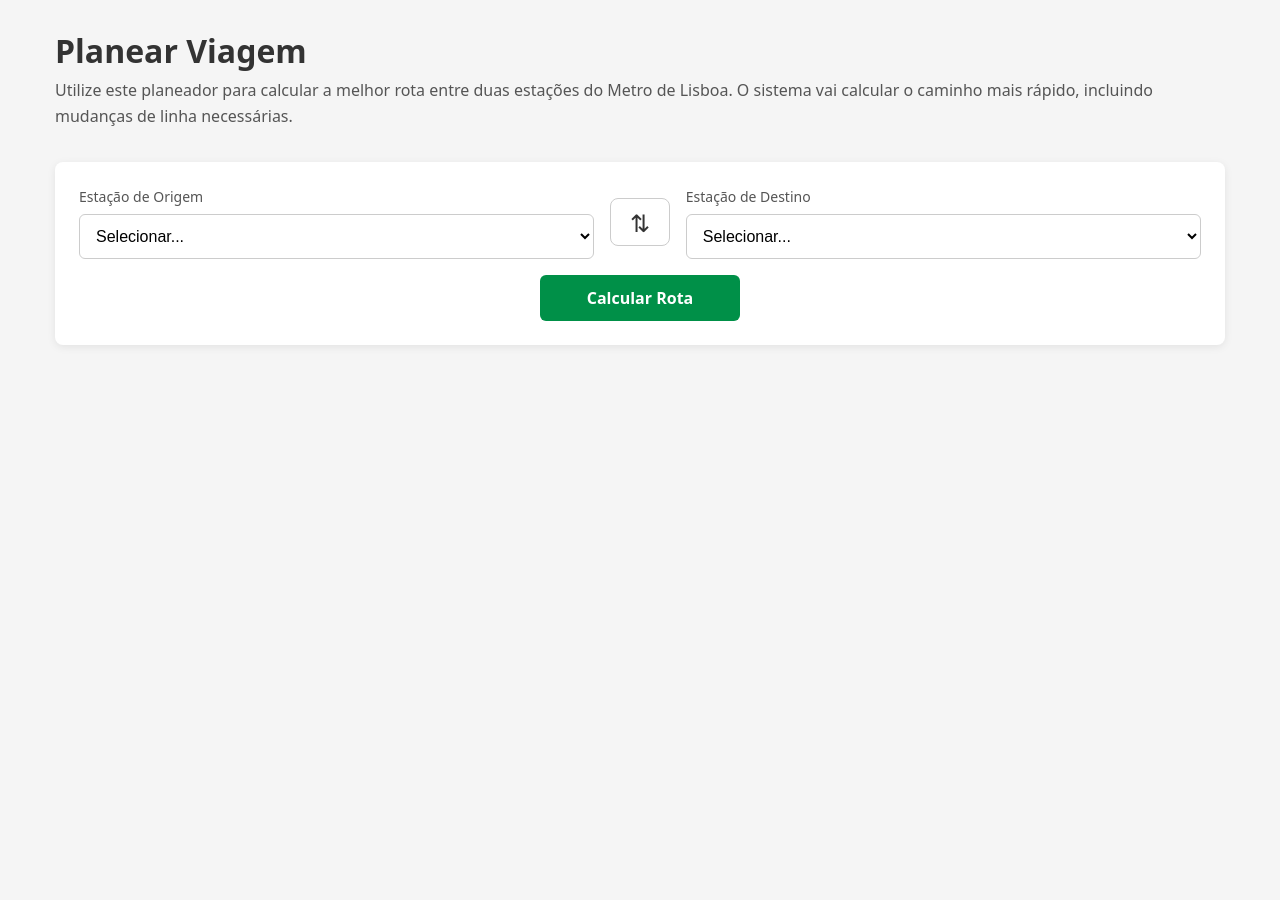
Test: PlanearViagem › shows note about conceptual planner
The image size is (1280, 900).
Select "Reboleira" in the dropdown labelled "Estação de Origem" at (337, 236), box [79,214,594,259]
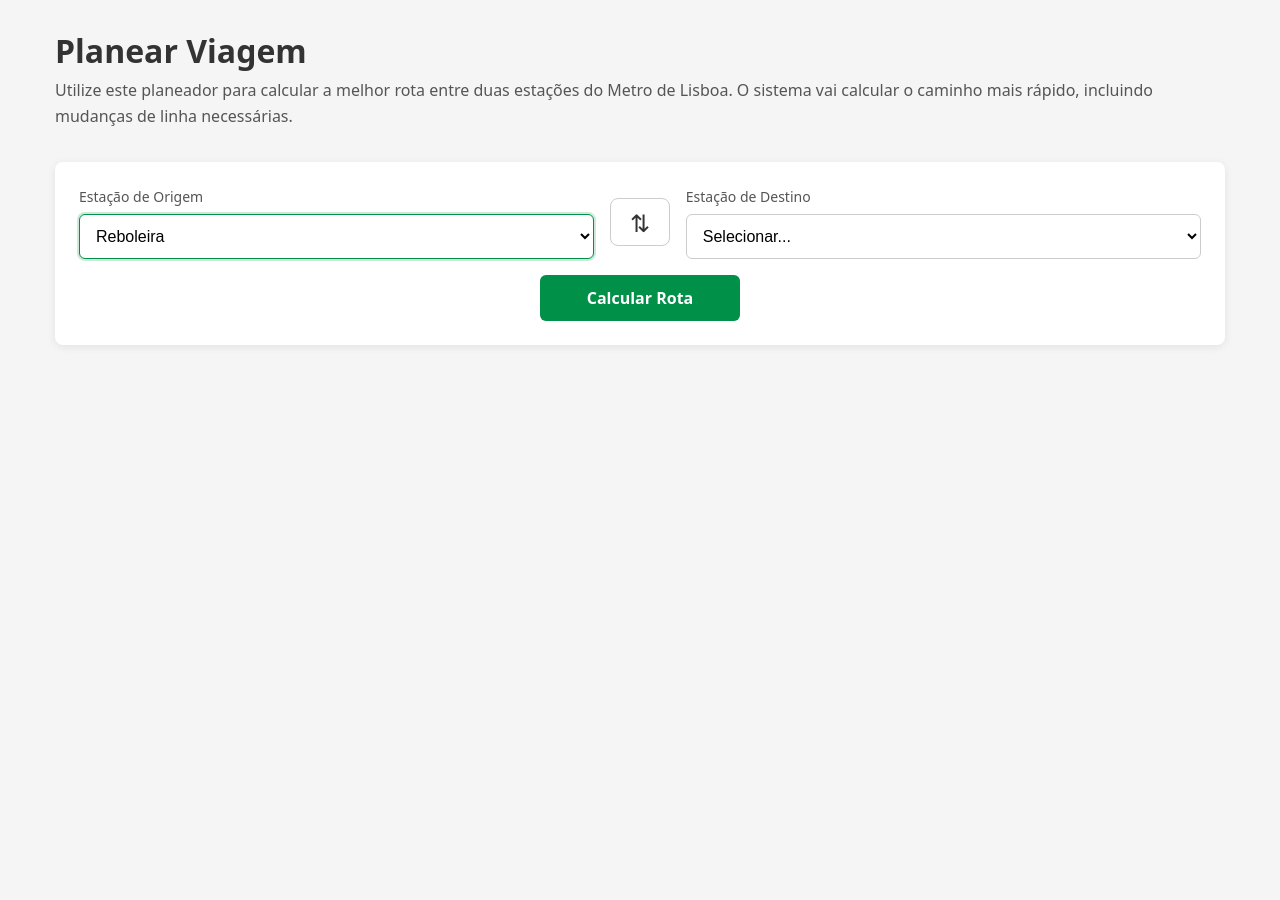
Select "Amadora Este" in the dropdown labelled "Estação de Destino" at (943, 236), box [686,214,1201,259]
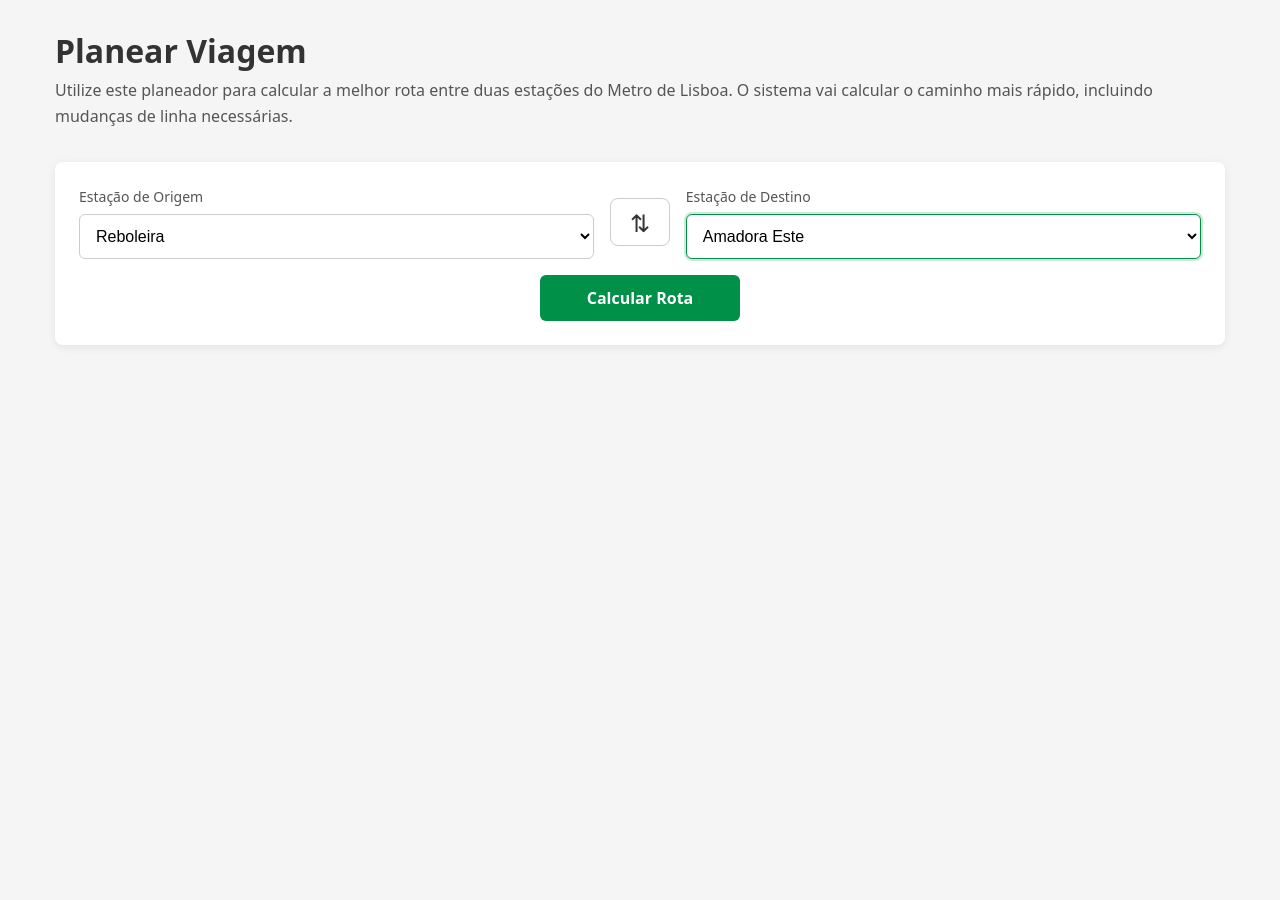
Click the button "Calcular Rota".
click(640, 298)  # box [540,275,740,321]
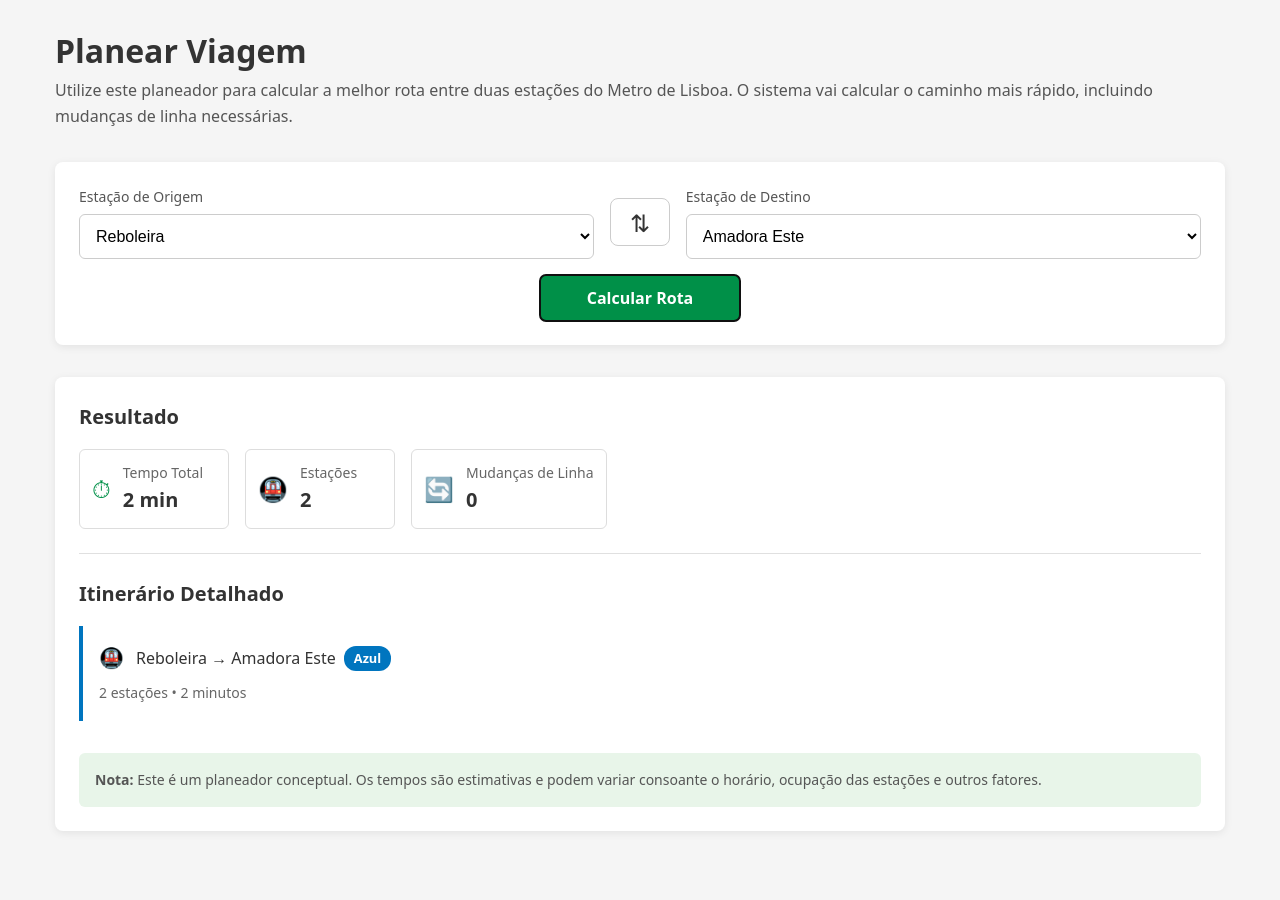
Now the text "planeador conceptual" is shown, box [134,770,1042,789]
